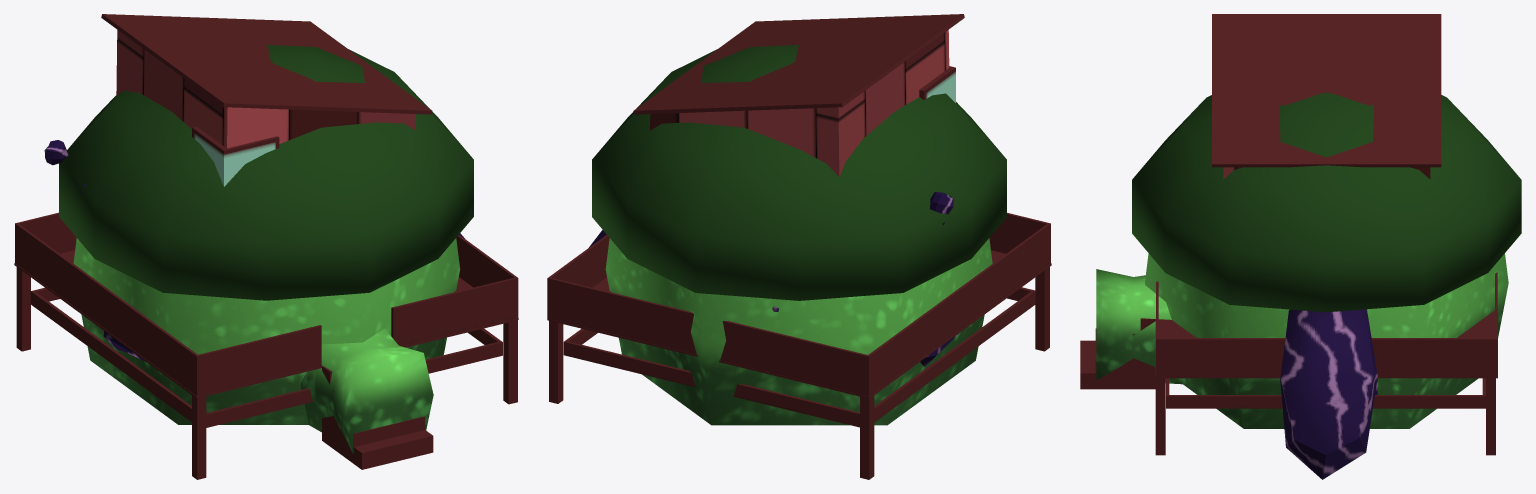
Rendered from CasasZ2.fbx.
3 views of the same model, side by side, from view 1: azimuth 30°, elevation 25°; view 2: azimuth 150°, elevation 25°; view 3: azimuth 270°, elevation 25° (orthographic). The views are drawn at different scales.
Parts seen in each view (by area): view 1: Casa verde (zona 2), Casa vermelha (zona 2), Casa roxa; view 2: Casa verde (zona 2), Casa vermelha (zona 2), Casa roxa; view 3: Casa verde (zona 2), Casa vermelha (zona 2), Casa roxa.
Part boxes in pixels (x1,y1,x2,y2): Casa verde (zona 2): (59,45,473,453); Casa vermelha (zona 2): (14,14,518,479); Casa roxa: (44,140,464,361); Casa verde (zona 2): (592,45,1006,425); Casa vermelha (zona 2): (547,14,1051,479); Casa roxa: (589,192,958,367); Casa verde (zona 2): (1096,93,1521,428); Casa vermelha (zona 2): (1080,14,1497,455); Casa roxa: (1280,309,1377,479).
Bounding box in the file's own units: 1021 × 800 × 998.
